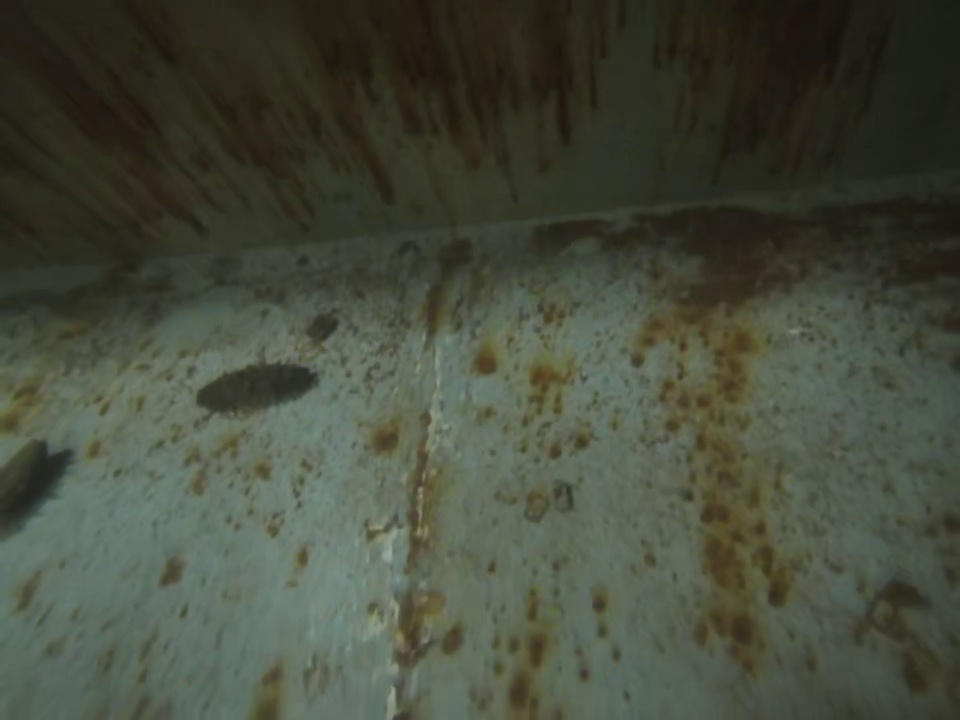seacucumber: (197, 361, 318, 408), (1, 435, 48, 533)
